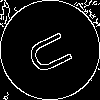U: (25, 25, 82, 78)
